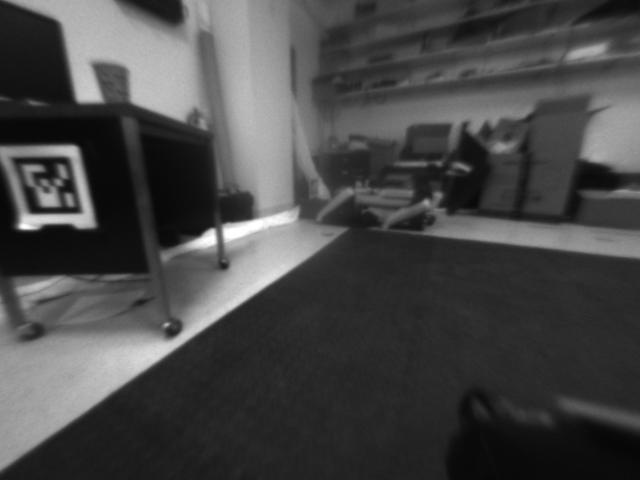coffee_cup: (90, 61, 133, 103)
